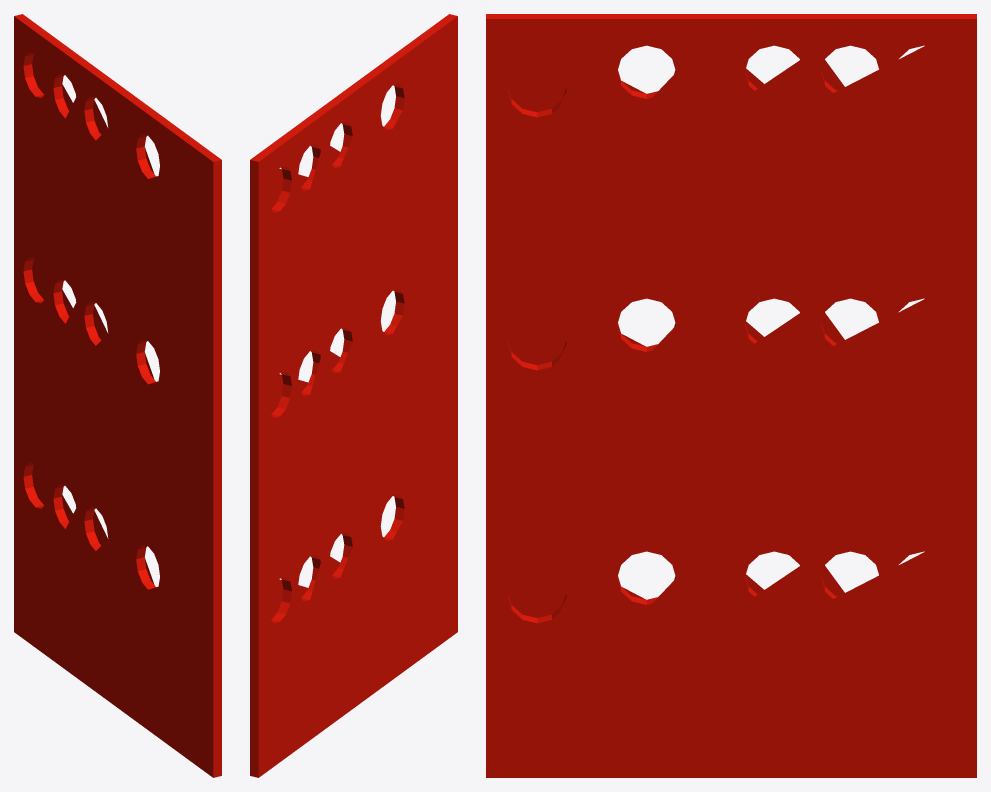
File: board1x.fbx
3 views of the same model, side by side, from view 1: azimuth 30°, elevation 25°; view 2: azimuth 150°, elevation 25°; view 3: azimuth 270°, elevation 25° (orthographic). The views are drawn at different scales.
Visible parts, largest first — view 1: Plane.008; view 2: Plane.008; view 3: Plane.008.
Boxes of the visible parts, x1,y1,x2,y2 form: Plane.008: (14, 14, 221, 777); Plane.008: (250, 14, 457, 777); Plane.008: (486, 14, 976, 777).
Bounding box in the file's own units: 9 × 617 × 362.
